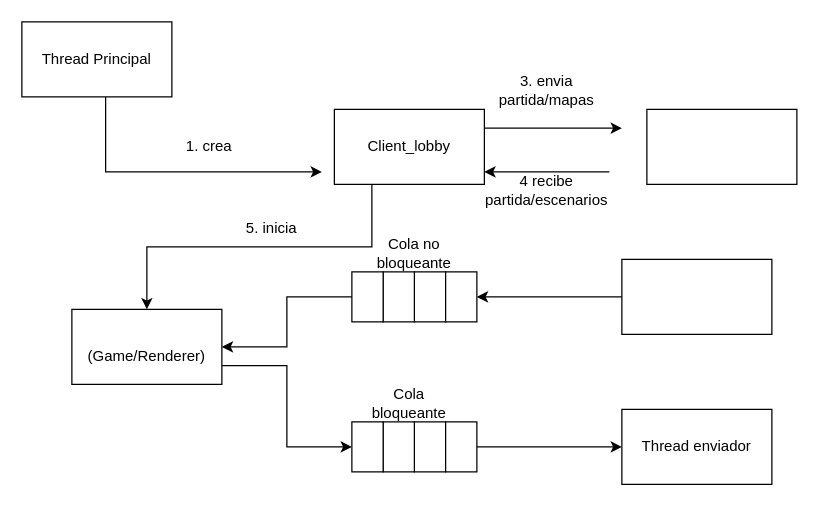
This 819x506 diagram has some shape labels left out. Each missing label, with the box of its shape:
Protocolo_cliente: (646, 108, 797, 184)
Thread recibidor: (621, 258, 772, 334)
